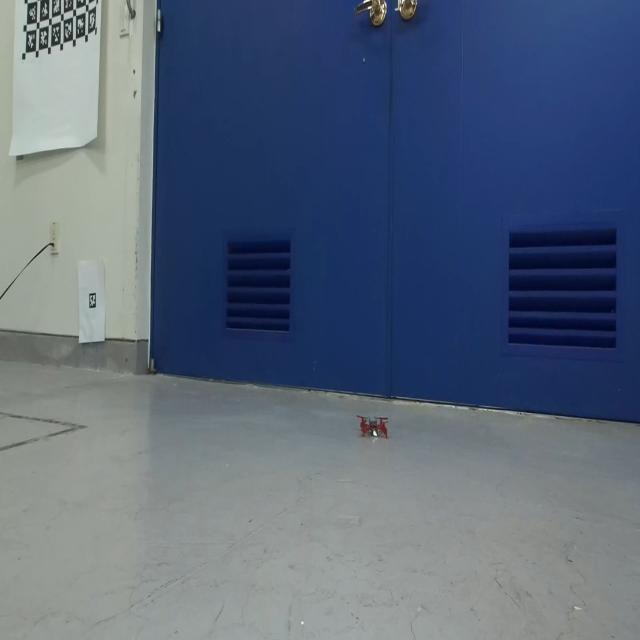crazyflie: (358, 412, 390, 440)
